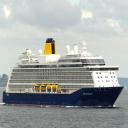cruises: (4, 38, 127, 110)
